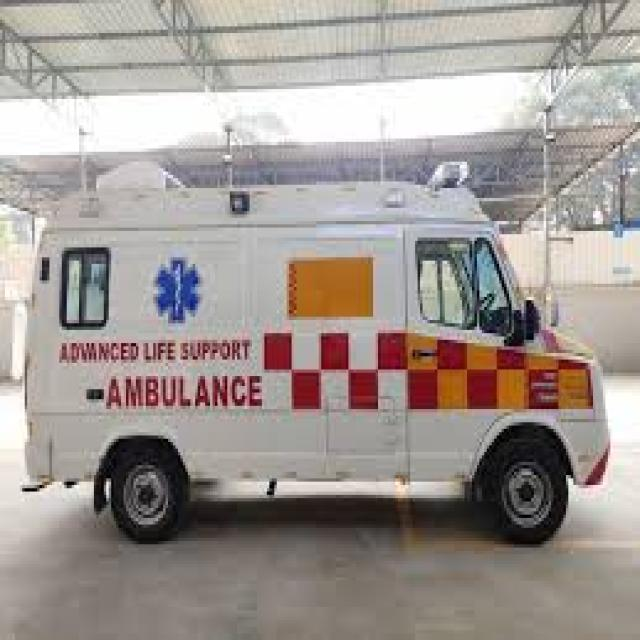ambulance: (23, 160, 610, 546)
